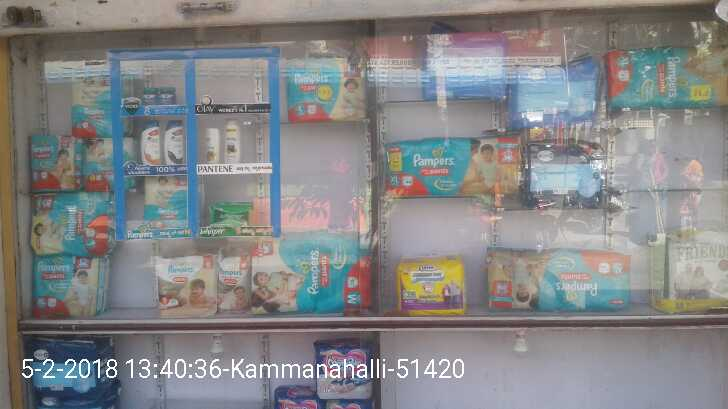beauty: (140, 118, 161, 166), (165, 119, 184, 165), (224, 118, 242, 161), (204, 128, 220, 164)
pharmacy: (251, 230, 379, 310), (381, 139, 528, 197), (493, 252, 631, 310), (605, 47, 728, 105), (27, 191, 123, 255), (287, 56, 364, 118), (34, 254, 104, 317), (156, 254, 219, 320), (71, 70, 135, 131), (144, 172, 205, 230), (81, 136, 138, 193), (31, 131, 80, 187), (219, 249, 249, 309), (206, 199, 251, 226)
